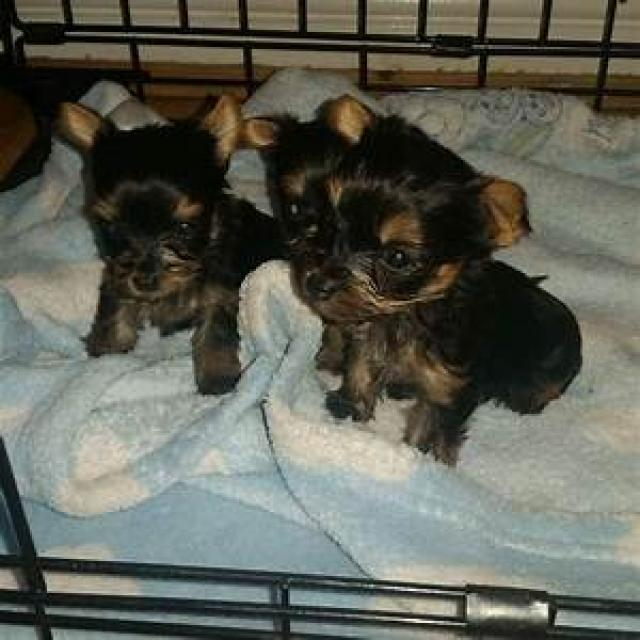KOPEK: (337, 119, 573, 454), (45, 92, 247, 392), (247, 90, 352, 372)
